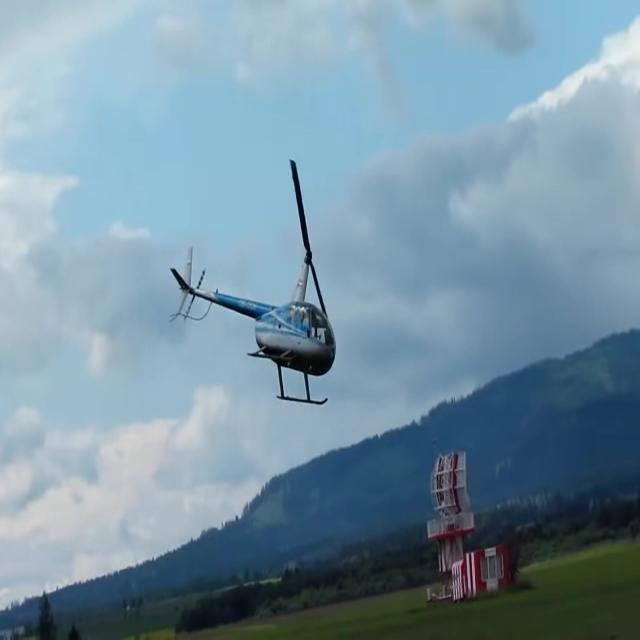CIV_HELO: (169, 242, 338, 409)
